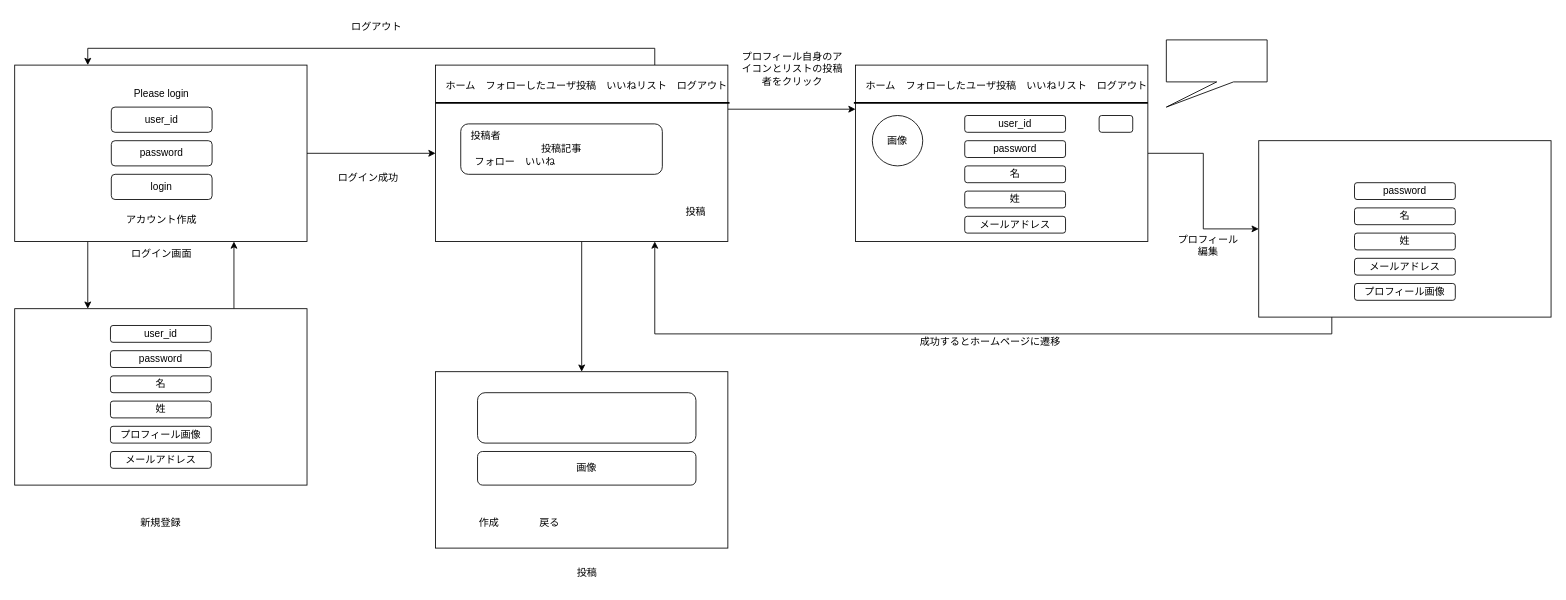
Some shapes in this 1566 by 600 pixel diagram are drawn without their labels. The shapes that lost their labels are listed below. From the top down, each one's centre as x and y in pixels, then its label:
At pixel 1216 73: "自身のプロフィールの時は編集ボタンを出す".
At pixel 1115 123: "編集".
At pixel 586 417: "内容".
